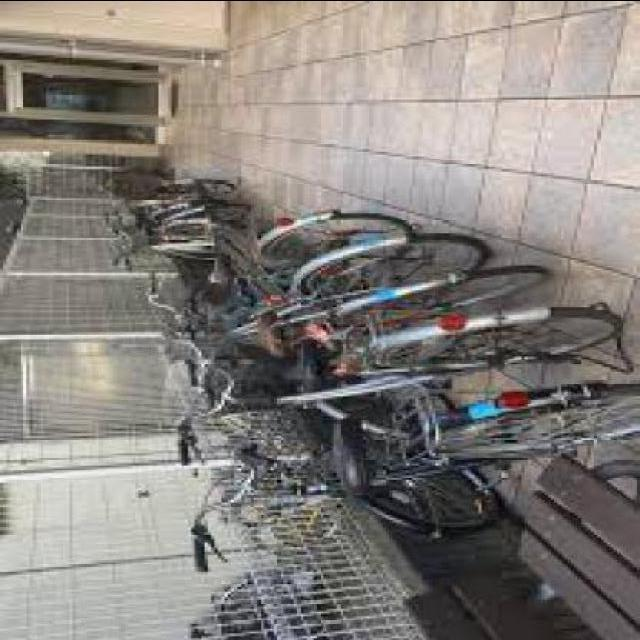bicycle: (163, 373, 640, 570), (154, 272, 630, 463)
